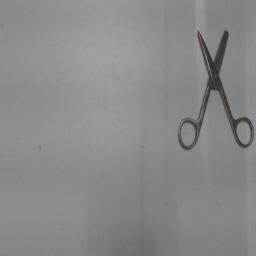Dressing Scissors: (171, 18, 255, 154)
